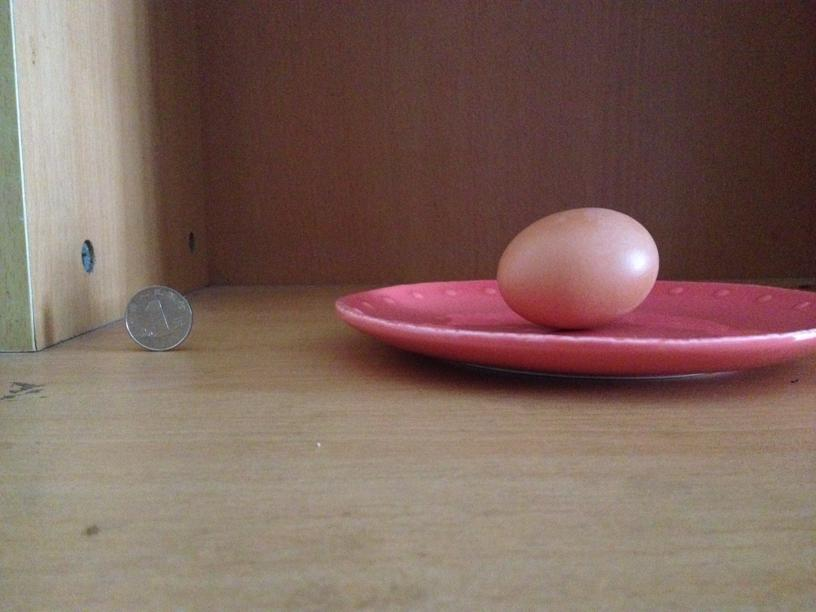coin: (123, 284, 191, 350)
egg: (494, 207, 659, 326)
